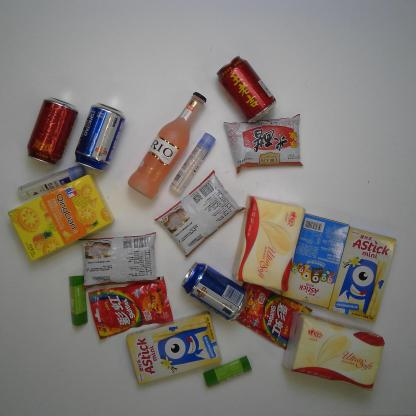Alcohol: (124, 88, 210, 204), (178, 259, 250, 325), (71, 98, 129, 174)
Candy: (231, 278, 316, 354), (85, 274, 175, 341)
Dessert: (5, 171, 118, 262), (122, 309, 224, 387), (326, 224, 398, 324), (280, 210, 351, 311)
Drink: (213, 53, 280, 125), (23, 93, 80, 168)
Seasoner: (150, 167, 250, 258), (220, 110, 308, 174), (76, 230, 164, 291)
Stationery: (167, 131, 220, 198), (15, 162, 90, 202), (198, 352, 256, 390), (65, 272, 91, 330)
Tissue: (280, 310, 387, 396), (230, 190, 308, 300)
